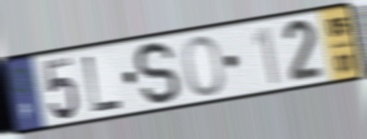1: (253, 24, 281, 87)
2: (285, 17, 327, 87)
5: (42, 55, 79, 121)
L: (82, 53, 125, 115)
O: (181, 34, 226, 98)
S: (133, 39, 183, 109)
